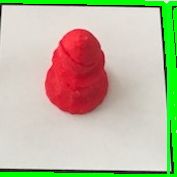Red Bishop: (40, 25, 114, 117)
